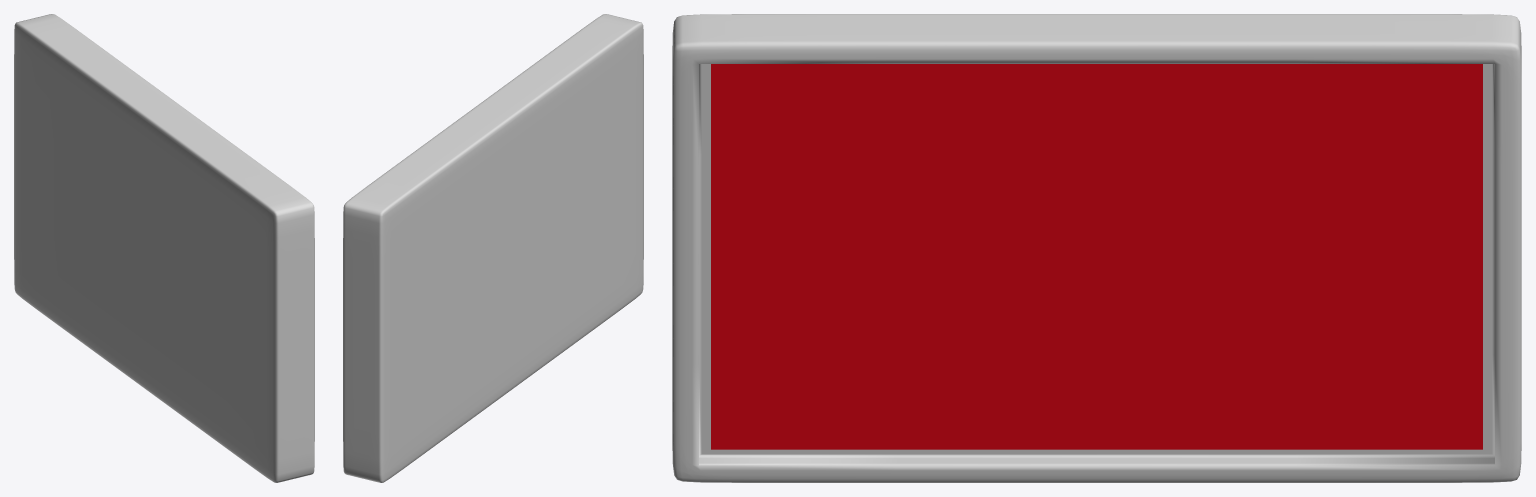
The model's file is Monitor.fbx.
3 renders of one model, left to right at view 1: azimuth 30°, elevation 25°; view 2: azimuth 150°, elevation 25°; view 3: azimuth 270°, elevation 25°, orthographic. The views are drawn at different scales.
Parts seen in each view (by area): view 1: Monitor; view 2: Monitor; view 3: Monitor.
Boxes of the visible parts, x1,y1,x2,y2 form: Monitor: (14,14,314,482); Monitor: (343,14,643,482); Monitor: (672,14,1521,482).
Size of the model in its own units: 19.98 by 128 by 223.
